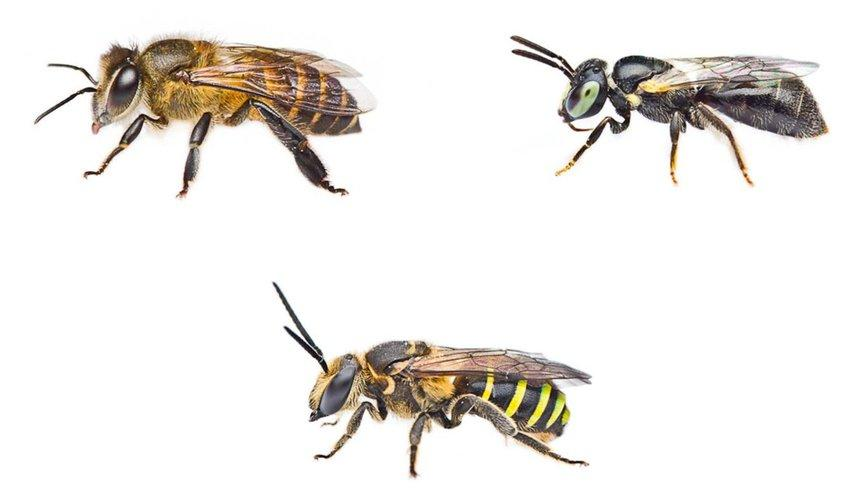Apis-mellifera-scutellata: (36, 37, 382, 203)
Lasioglossum: (501, 21, 841, 227)
